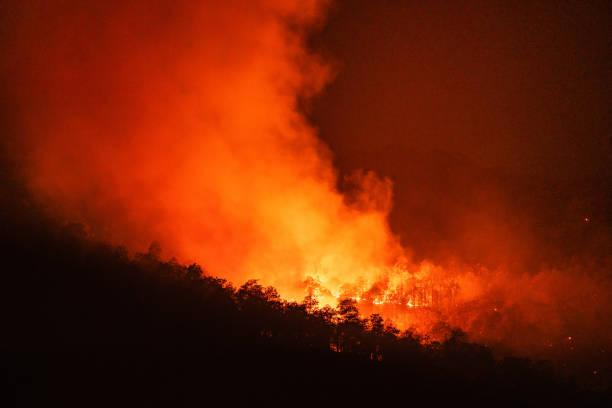Fire: (211, 93, 602, 339)
